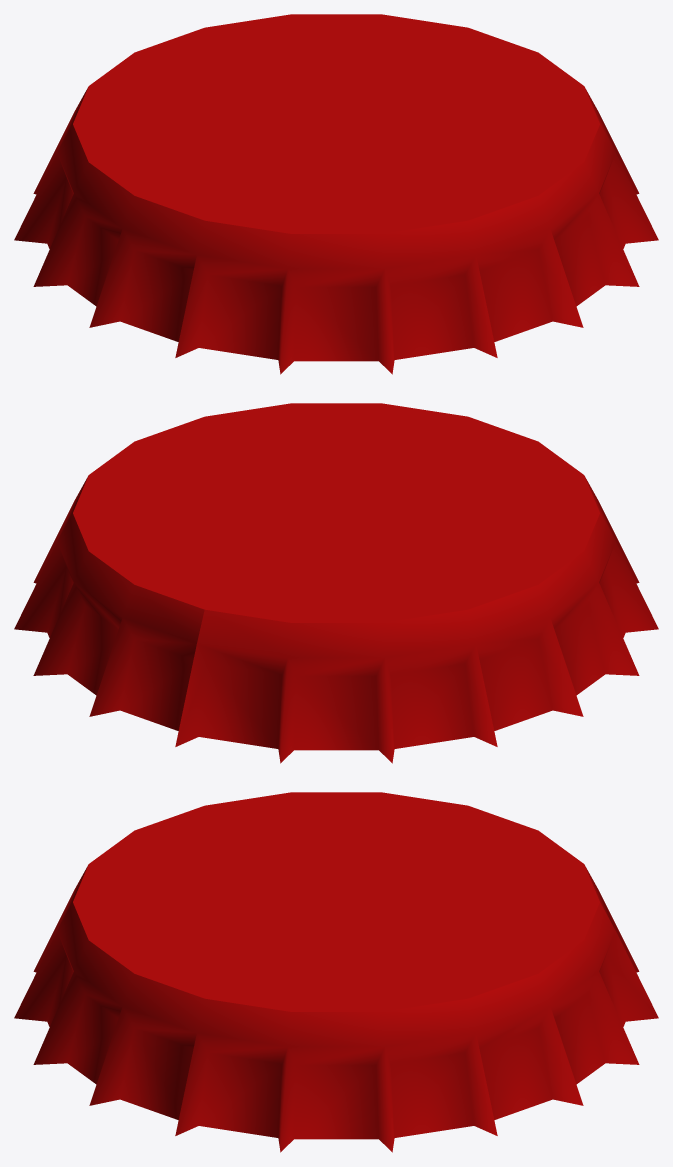
File: bottlecap-by-poly-by-google-7HsR9BPZpi6.glb
The picture shows the model from 3 angles, top to bottom: view 1: azimuth 30°, elevation 25°; view 2: azimuth 150°, elevation 25°; view 3: azimuth 270°, elevation 25°; orthographic projection.
Visible parts, largest first — view 1: Cylinder_Cylinder.001; view 2: Cylinder_Cylinder.001; view 3: Cylinder_Cylinder.001.
Boxes of the visible parts, left/top/right/bottom form: Cylinder_Cylinder.001: left=14, top=14, right=658, bottom=374; Cylinder_Cylinder.001: left=14, top=403, right=658, bottom=763; Cylinder_Cylinder.001: left=14, top=792, right=658, bottom=1152.
Size of the model in its own units: 0.0356 by 0.00718 by 0.0361.
